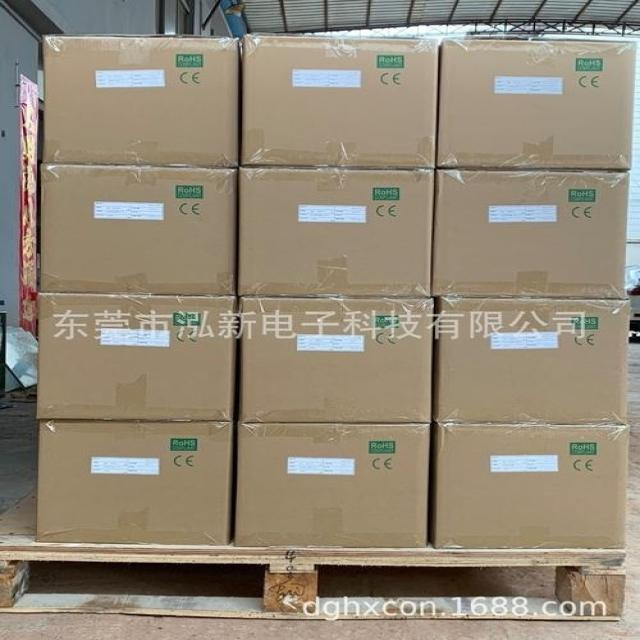box: (235, 36, 441, 169), (41, 35, 241, 168), (39, 164, 236, 298), (434, 42, 636, 170), (235, 170, 434, 297), (431, 299, 630, 425), (433, 171, 629, 298), (37, 295, 234, 421), (233, 424, 431, 549), (236, 297, 431, 423), (36, 421, 234, 545), (432, 423, 626, 549)
